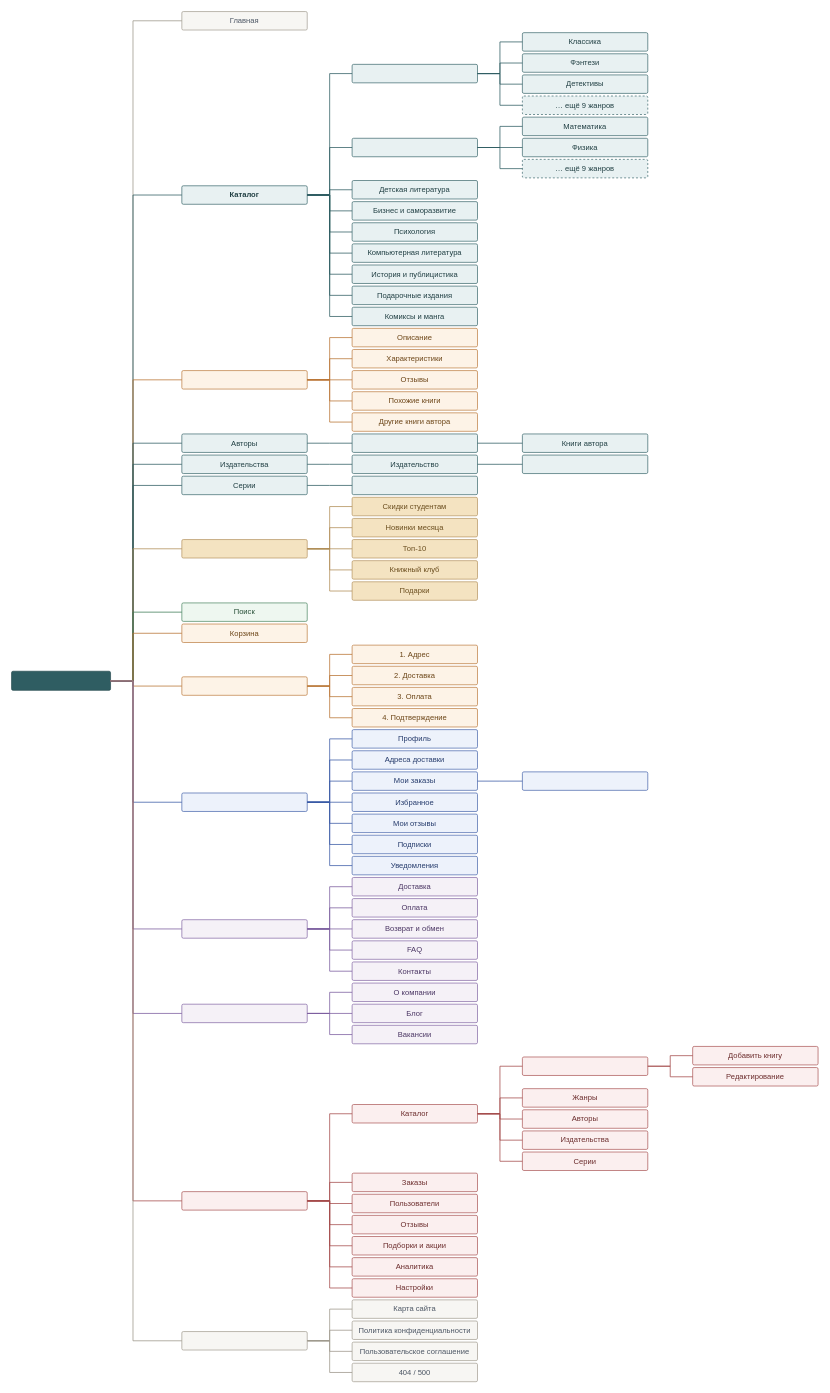
Image size: 830x1393. Some labels were removed from this diagram. Each missing label, with the centre of its shape:
"BookBox" belongs at pixel 61 680.
"Автор" belongs at pixel 414 442.
"Админ-панель" belongs at pixel 244 1200.
"Заказ" belongs at pixel 585 780.
"Книга (карточка)" belongs at pixel 244 379.
"Книги" belongs at pixel 585 1065.
"Книги издательства" belongs at pixel 585 464.
"Личный кабинет" belongs at pixel 244 801.
"Научная и учебная" belongs at pixel 414 147.
"О нас" belongs at pixel 244 1013.
"Оформление заказа" belongs at pixel 244 685.
"Подборки" belongs at pixel 244 548.
"Помощь" belongs at pixel 244 928.
"Серия" belongs at pixel 414 485.
"Служебные страницы" belongs at pixel 244 1340.
"Художественная литература" belongs at pixel 414 73.
